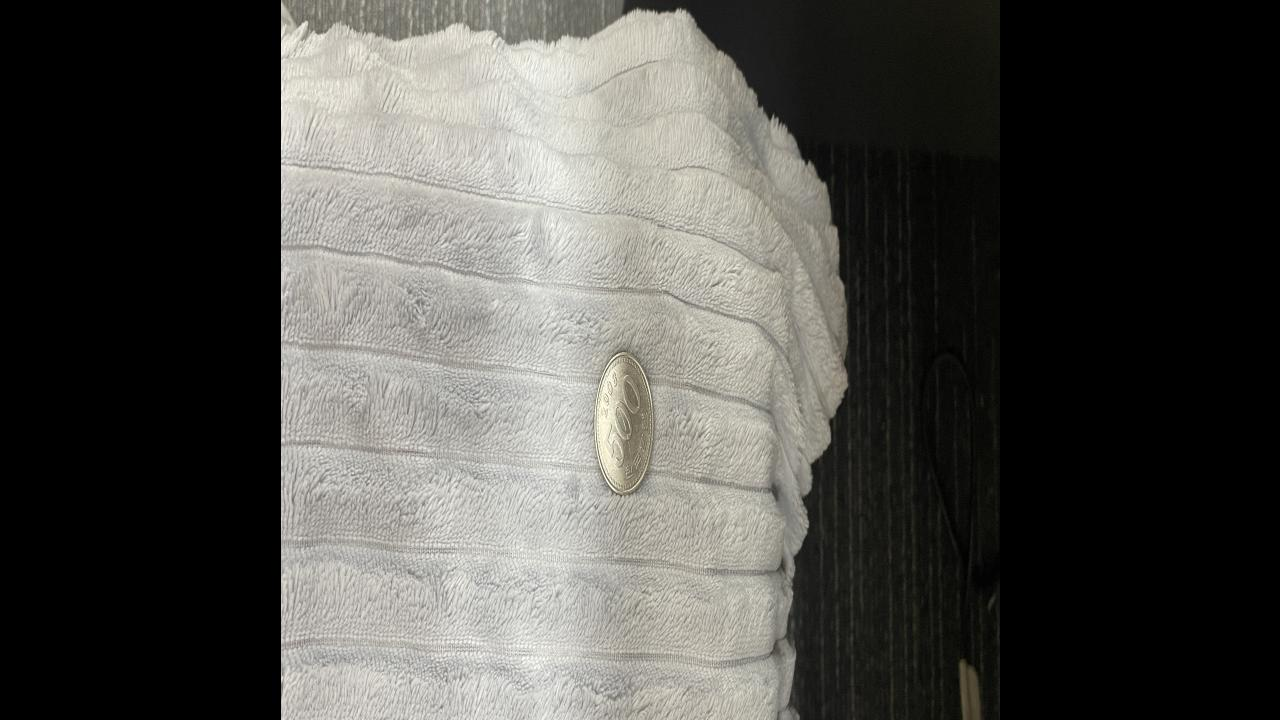coin: (593, 348, 655, 500)
